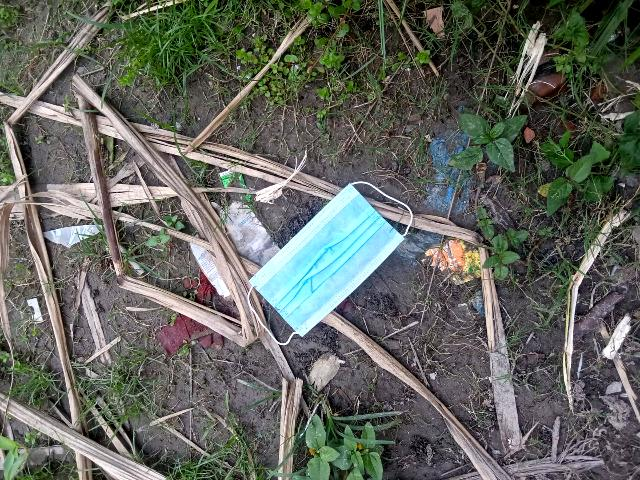mask: (210, 146, 450, 375)
